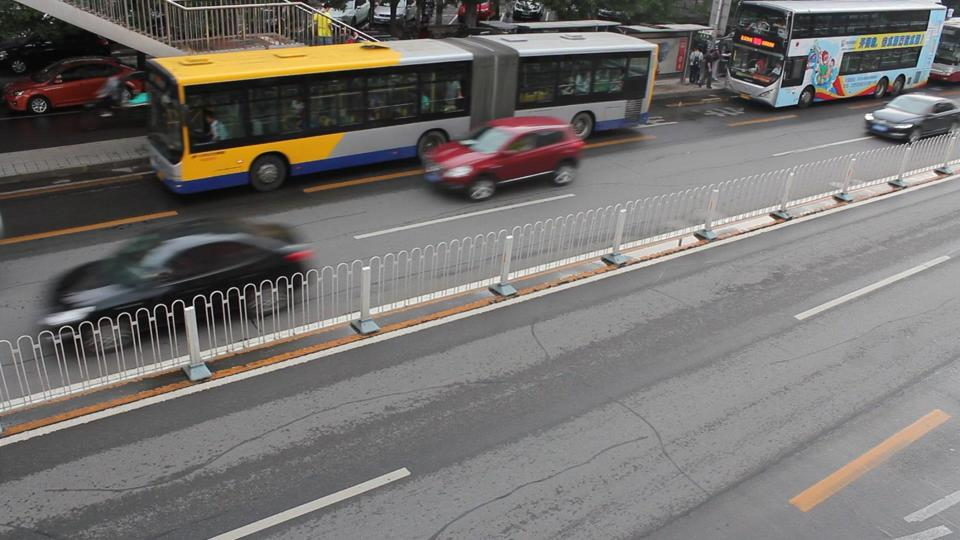Bus: (144, 33, 655, 193), (725, 1, 946, 108)
Car: (47, 218, 304, 348), (423, 114, 578, 198), (1, 56, 146, 115), (158, 50, 282, 106), (308, 30, 412, 87), (862, 91, 960, 146), (454, 32, 544, 79)
